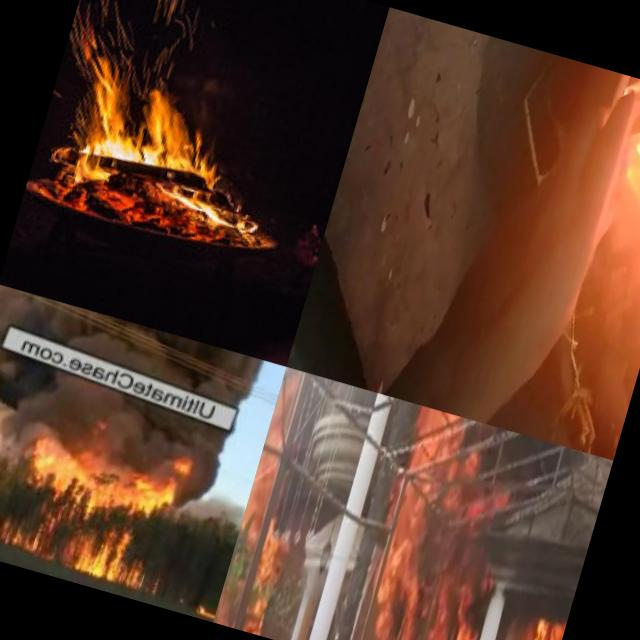fire: (51, 70, 270, 238), (350, 404, 482, 640), (2, 438, 186, 596), (225, 390, 303, 587), (359, 554, 495, 640), (238, 533, 292, 637), (518, 608, 568, 640), (189, 598, 218, 622)
smoke: (30, 384, 238, 507), (0, 344, 73, 476)
